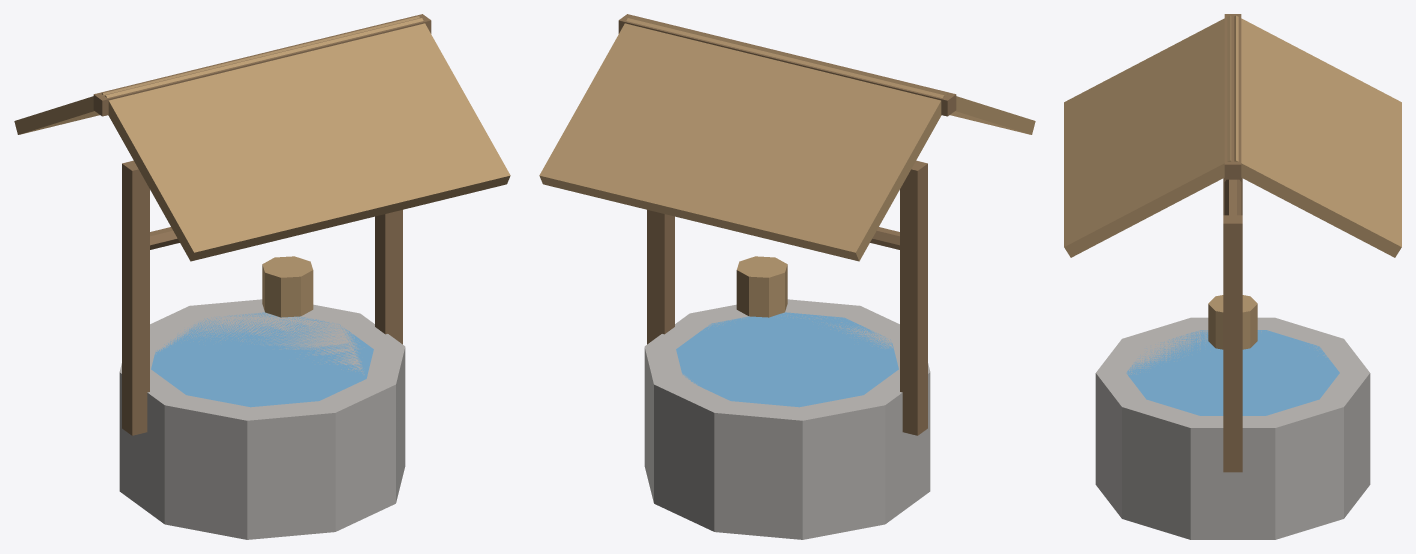
The model's file is Well.glb.
3 renders of one model, left to right at view 1: azimuth 30°, elevation 25°; view 2: azimuth 150°, elevation 25°; view 3: azimuth 270°, elevation 25°, orthographic. The views are drawn at different scales.
Parts seen in each view (by area): view 1: Well_RoofF, Well_Ring, Well_Water, Well_Post, Well_Post.001, Well_Bucket, Well_RoofB, Well_Ridge; view 2: Well_RoofB, Well_Ring, Well_Water, Well_Post, Well_Post.001, Well_Bucket, Well_RoofF, Well_Ridge; view 3: Well_Ring, Well_RoofB, Well_RoofF, Well_Water, Well_Post.001, Well_Ridge, Well_Bucket, Well_Axle.
Boxes of the visible parts, x1,y1,x2,y2 form: Well_RoofF: [105, 18, 510, 261]; Well_Ring: [119, 299, 405, 539]; Well_Water: [151, 312, 373, 407]; Well_Post: [122, 160, 149, 435]; Well_Post.001: [375, 210, 402, 344]; Well_Bucket: [262, 256, 313, 317]; Well_RoofB: [14, 16, 419, 134]; Well_Ridge: [93, 14, 431, 116]; Well_RoofB: [539, 18, 944, 261]; Well_Ring: [644, 299, 930, 539]; Well_Water: [676, 312, 898, 407]; Well_Post: [900, 160, 927, 435]; Well_Post.001: [647, 210, 674, 344]; Well_Bucket: [736, 256, 787, 317]; Well_RoofF: [630, 16, 1035, 134]; Well_Ridge: [618, 14, 956, 116]; Well_Ring: [1095, 317, 1370, 539]; Well_RoofB: [1234, 15, 1401, 257]; Well_RoofF: [1064, 15, 1231, 257]; Well_Water: [1126, 330, 1339, 415]; Well_Post.001: [1223, 215, 1242, 472]; Well_Ridge: [1224, 14, 1241, 179]; Well_Bucket: [1208, 295, 1257, 349]; Well_Axle: [1224, 179, 1241, 215].
Bounding box in the file's own units: 2.6 × 3.19 × 2.46.
